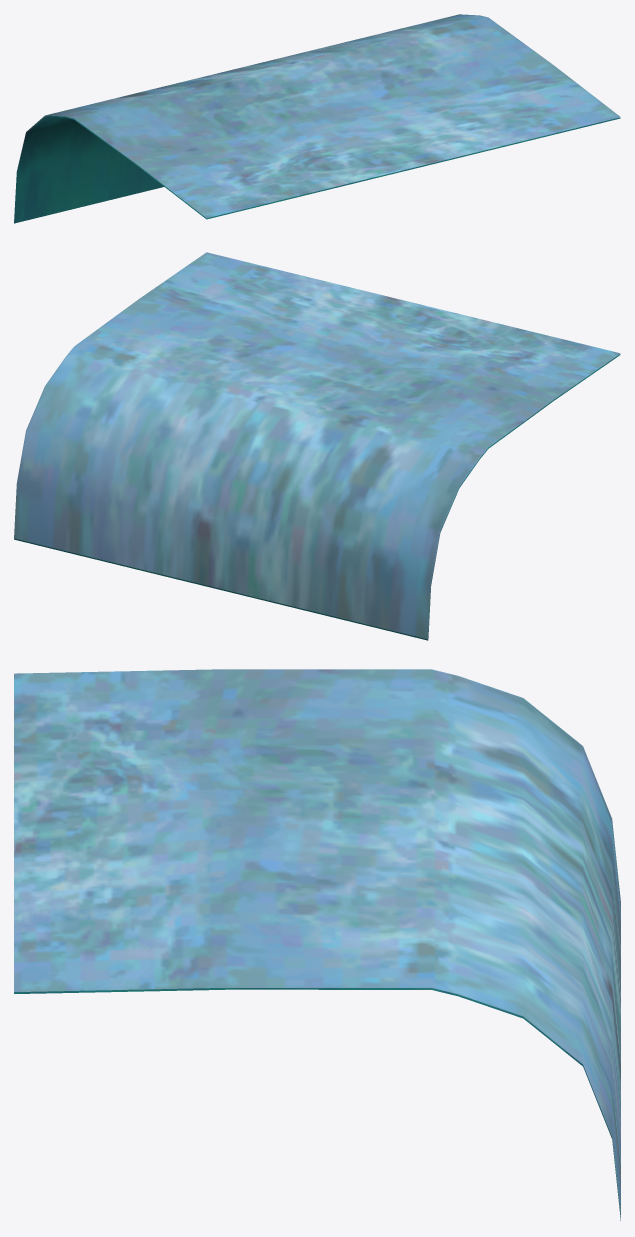
File: pubu.FBX
3 renders of one model, top to bottom at view 1: azimuth 30°, elevation 25°; view 2: azimuth 150°, elevation 25°; view 3: azimuth 270°, elevation 25°, orthographic. The views are drawn at different scales.
Visible parts, largest first — view 1: Plane02, Plane01; view 2: Plane02, Plane01; view 3: Plane02, Plane01.
Part boxes in pixels (x1,y1,x2,y2): Plane02: [14, 14, 620, 220]; Plane01: [14, 115, 620, 223]; Plane02: [14, 252, 620, 639]; Plane01: [14, 354, 620, 640]; Plane02: [14, 669, 620, 1218]; Plane01: [14, 988, 620, 1220].
Bounding box in the file's own units: 806 × 277 × 649.
